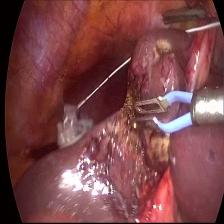Bipolar: (128, 76, 215, 149)
Grasper: (161, 4, 208, 27)
Specimen Bag: (55, 97, 97, 149)
